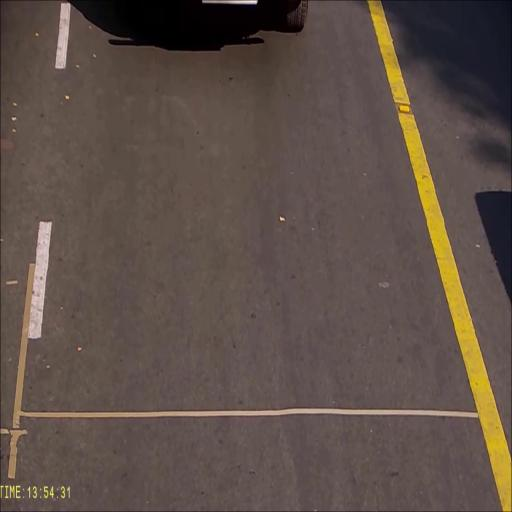License plate: (201, 0, 258, 5)
Vehicle: (68, 0, 309, 52)
